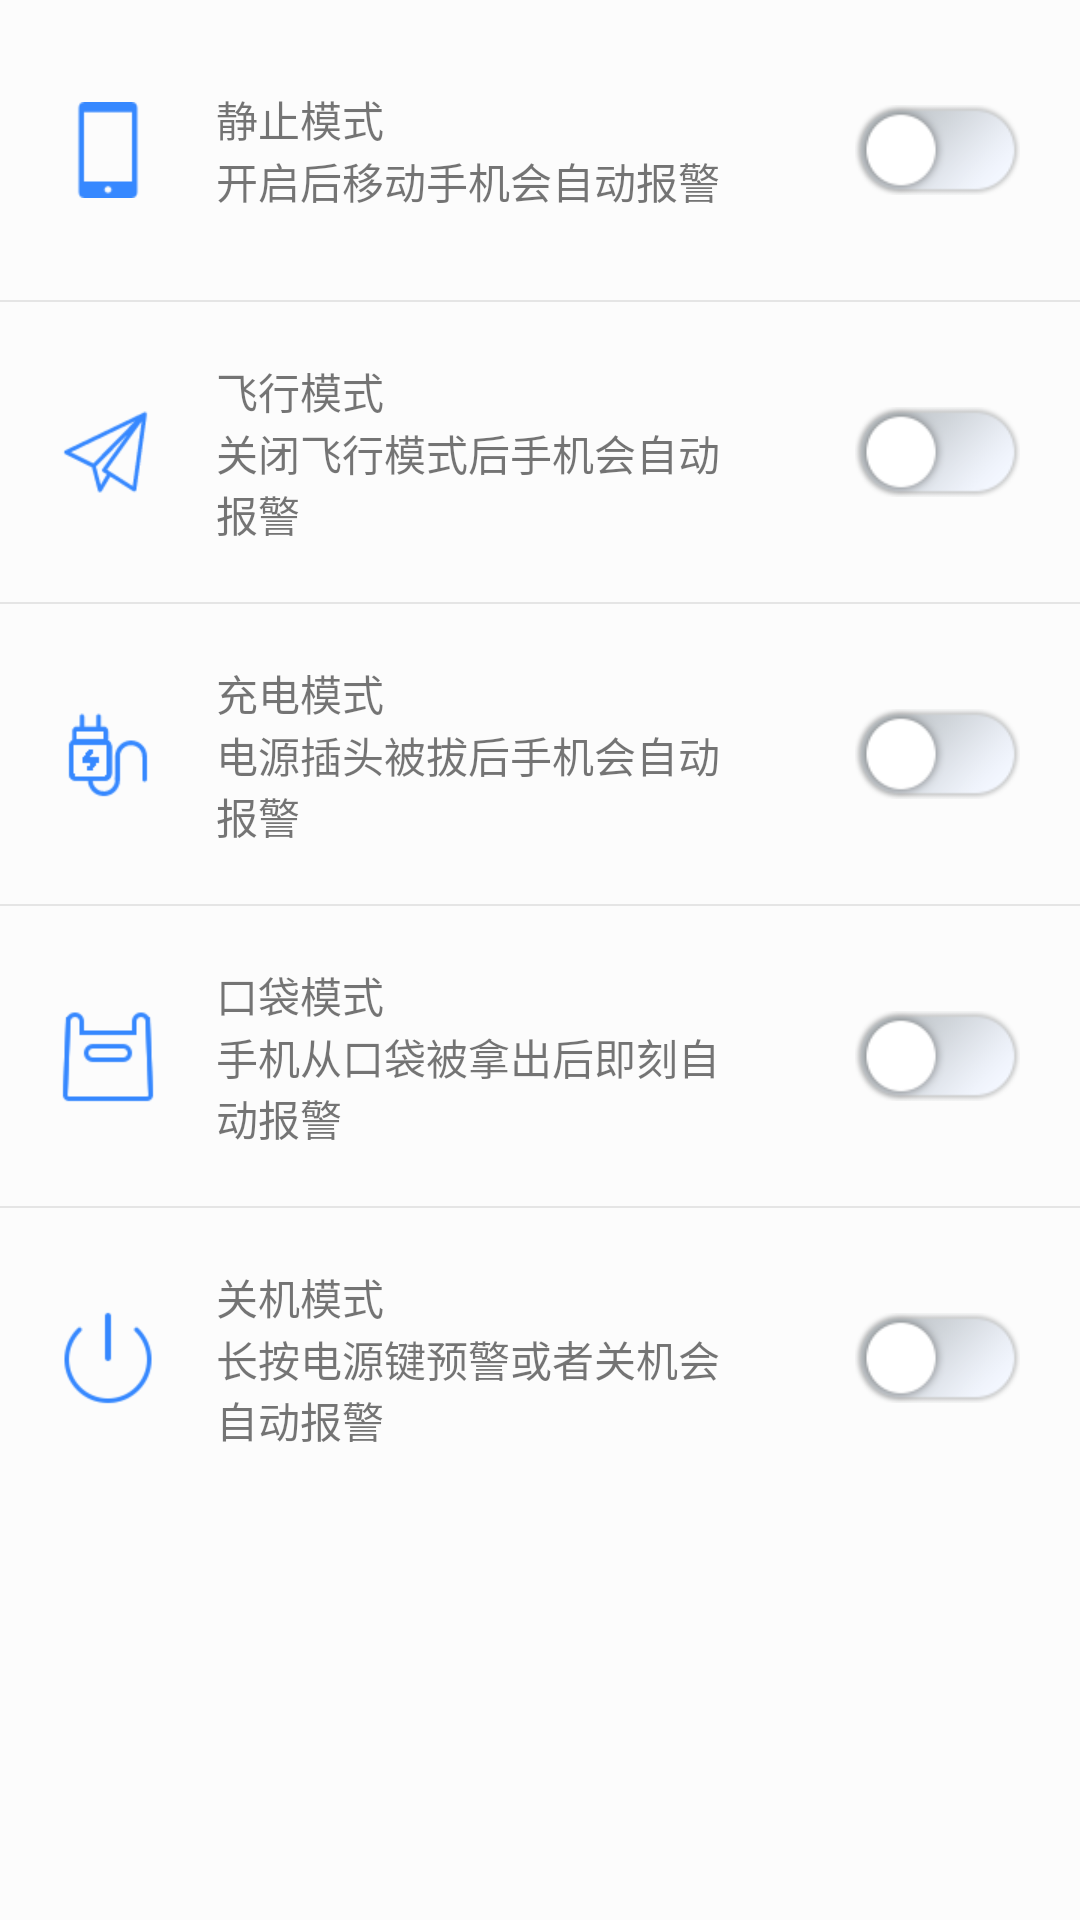

Icon click points for this 1080×1920 phone screenshot, format point (x, y):
flight: point (105, 452)
shutdown: point (108, 1358)
